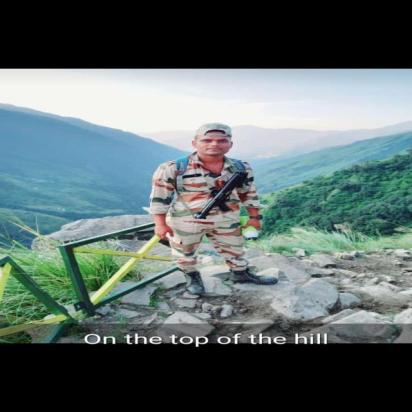Gun: (192, 170, 252, 221)
